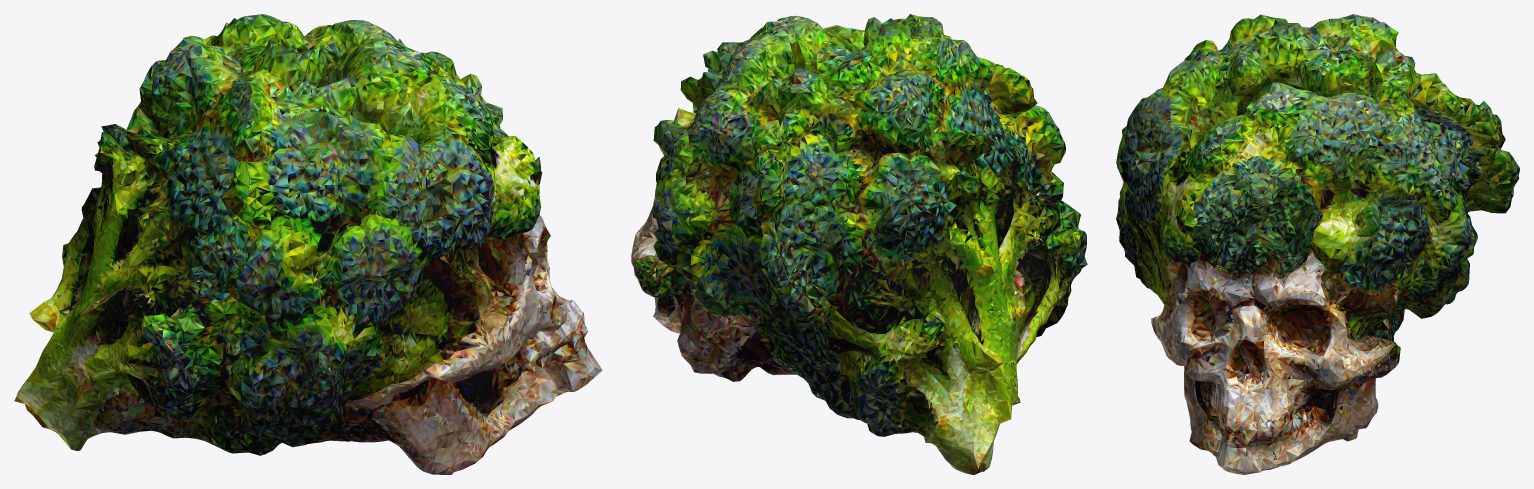
Rendered from broccoli_skull-depth.glb.
3 views of the same model, side by side, from view 1: azimuth 30°, elevation 25°; view 2: azimuth 150°, elevation 25°; view 3: azimuth 270°, elevation 25° (orthographic). The views are drawn at different scales.
Visible parts, largest first — view 1: extracted_mesh; view 2: extracted_mesh; view 3: extracted_mesh.
Boxes of the visible parts, left/top/right/bottom form: extracted_mesh: left=14, top=14, right=602, bottom=474; extracted_mesh: left=631, top=14, right=1087, bottom=474; extracted_mesh: left=1116, top=14, right=1519, bottom=474.
Size of the model in its own units: 1.06 by 0.8772 by 0.8757.
1 material, 1 textured.
